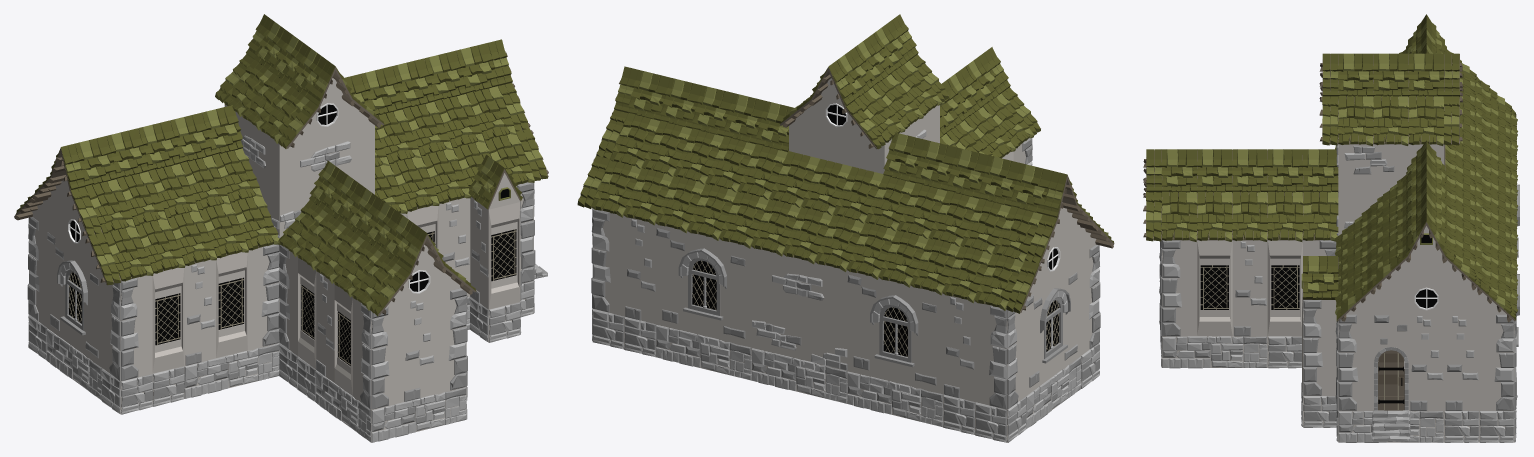
File: HOUSE_13.fbx
The picture shows the model from 3 angles, left to right: view 1: azimuth 30°, elevation 25°; view 2: azimuth 150°, elevation 25°; view 3: azimuth 270°, elevation 25°; orthographic projection. The views are drawn at different scales.
Parts seen in each view (by area): view 1: WALL_03_2, WINDOW_03_19, WINDOW_04_5, WALL_05_6, WINDOW_04_9, FOUNDATION_03_2, FOUNDATION_03_4, WALL_05_2, WALL_07_2, WALL_06_3, WALL_06_9, WINDOW_04_8 (+77 smaller); view 2: WINDOW_03_17, WALL_03_4, WINDOW_03_18, WINDOW_03_19, WALL_06_12, WALL_06_13, WALL_05_8, FOUNDATION_03_6, WALL_07_8, FOUNDATION_03_8, FOUNDATION_03_7, WALL_07_7 (+66 smaller); view 3: WALL_01_2, WALL_06_11, WALL_06_10, DOOR_01_4, WALL_05_3, WALL_06_4, WINDOW_04_2, WALL_05_9, WALL_07_4, FOUNDATION_03_11, WINDOW_04_3, WALL_05_4 (+73 smaller).
Boxes of the visible parts, bbox=[...] form: WALL_03_2: bbox=[279, 121, 374, 237]; WINDOW_03_19: bbox=[47, 228, 102, 367]; WINDOW_04_5: bbox=[488, 202, 520, 309]; WALL_05_6: bbox=[120, 275, 152, 381]; WINDOW_04_9: bbox=[152, 267, 184, 373]; FOUNDATION_03_2: bbox=[371, 386, 466, 442]; FOUNDATION_03_4: bbox=[184, 343, 279, 398]; WALL_05_2: bbox=[371, 302, 403, 409]; WALL_07_2: bbox=[435, 288, 467, 393]; WALL_06_3: bbox=[403, 294, 434, 401]; WALL_06_9: bbox=[184, 260, 215, 365]; WINDOW_04_8: bbox=[216, 252, 247, 357]; WINDOW_03_17: bbox=[847, 271, 943, 393]; WALL_03_4: bbox=[752, 247, 847, 370]; WINDOW_03_18: bbox=[656, 224, 751, 347]; WINDOW_03_19: bbox=[1025, 256, 1080, 395]; WALL_06_12: bbox=[943, 294, 975, 401]; WALL_06_13: bbox=[624, 216, 656, 323]; WALL_05_8: bbox=[592, 208, 624, 315]; FOUNDATION_03_6: bbox=[847, 371, 943, 427]; WALL_07_8: bbox=[975, 302, 1007, 409]; FOUNDATION_03_8: bbox=[656, 324, 751, 380]; FOUNDATION_03_7: bbox=[752, 347, 847, 403]; WALL_07_7: bbox=[1081, 244, 1100, 355]; WALL_01_2: bbox=[1338, 144, 1444, 235]; WALL_06_11: bbox=[1444, 314, 1479, 410]; WALL_06_10: bbox=[1409, 314, 1444, 410]; DOOR_01_4: bbox=[1373, 314, 1408, 410]; WALL_05_3: bbox=[1162, 240, 1197, 336]; WALL_06_4: bbox=[1232, 240, 1267, 336]; WINDOW_04_2: bbox=[1197, 240, 1232, 335]; WALL_05_9: bbox=[1338, 314, 1373, 410]; WALL_07_4: bbox=[1479, 314, 1514, 410]; FOUNDATION_03_11: bbox=[1162, 336, 1267, 368]; WINDOW_04_3: bbox=[1267, 240, 1302, 335]; WALL_05_4: bbox=[1303, 300, 1336, 395].
Bounding box in the file's own units: 1456 × 914 × 1068.
